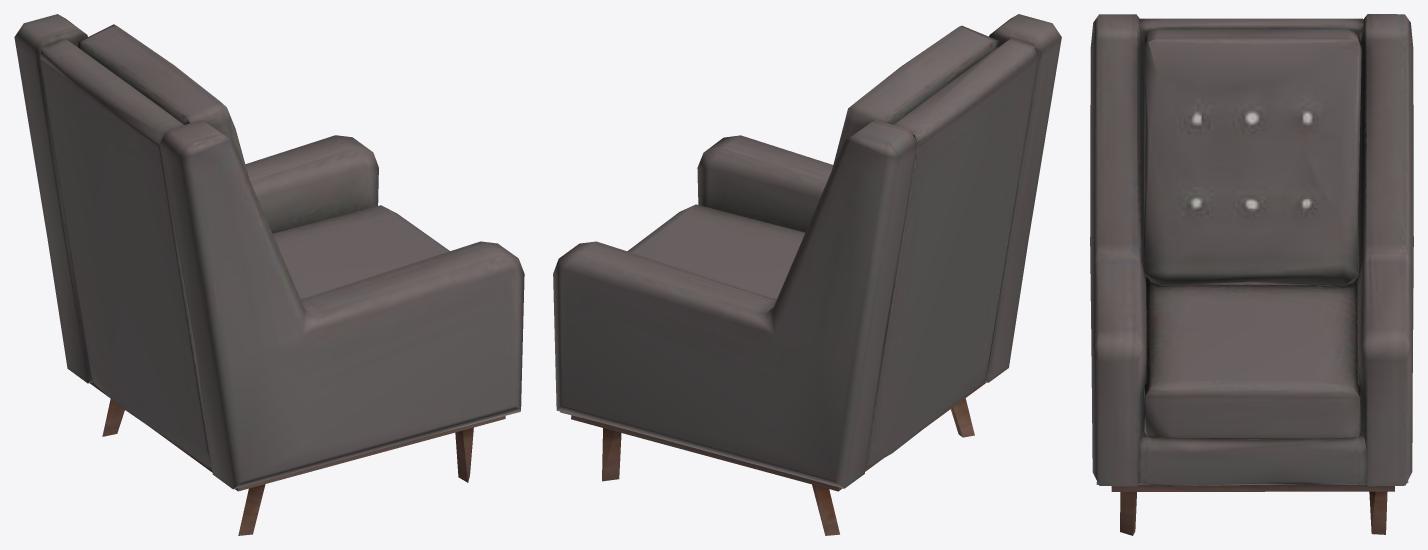
The model's file is S_Sofa0003.obj.
The picture shows the model from 3 angles, left to right: view 1: azimuth 30°, elevation 25°; view 2: azimuth 150°, elevation 25°; view 3: azimuth 270°, elevation 25°; orthographic projection. The views are drawn at different scales.
Bounding box in the file's own units: 0.749 × 0.87 × 0.651.
1 material, 1 textured.
